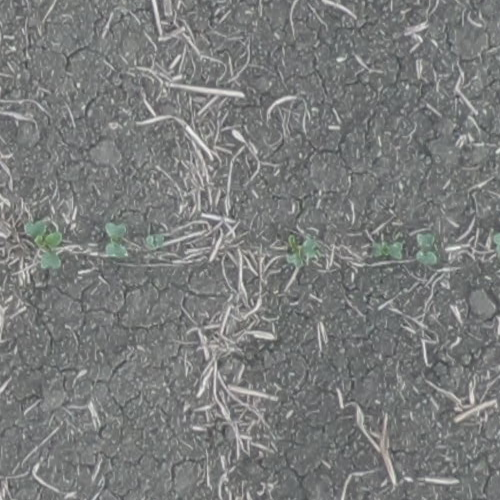isolated: (24, 221, 64, 270), (288, 233, 323, 270), (105, 223, 131, 266), (414, 231, 437, 268), (371, 240, 403, 265), (493, 218, 499, 257)
